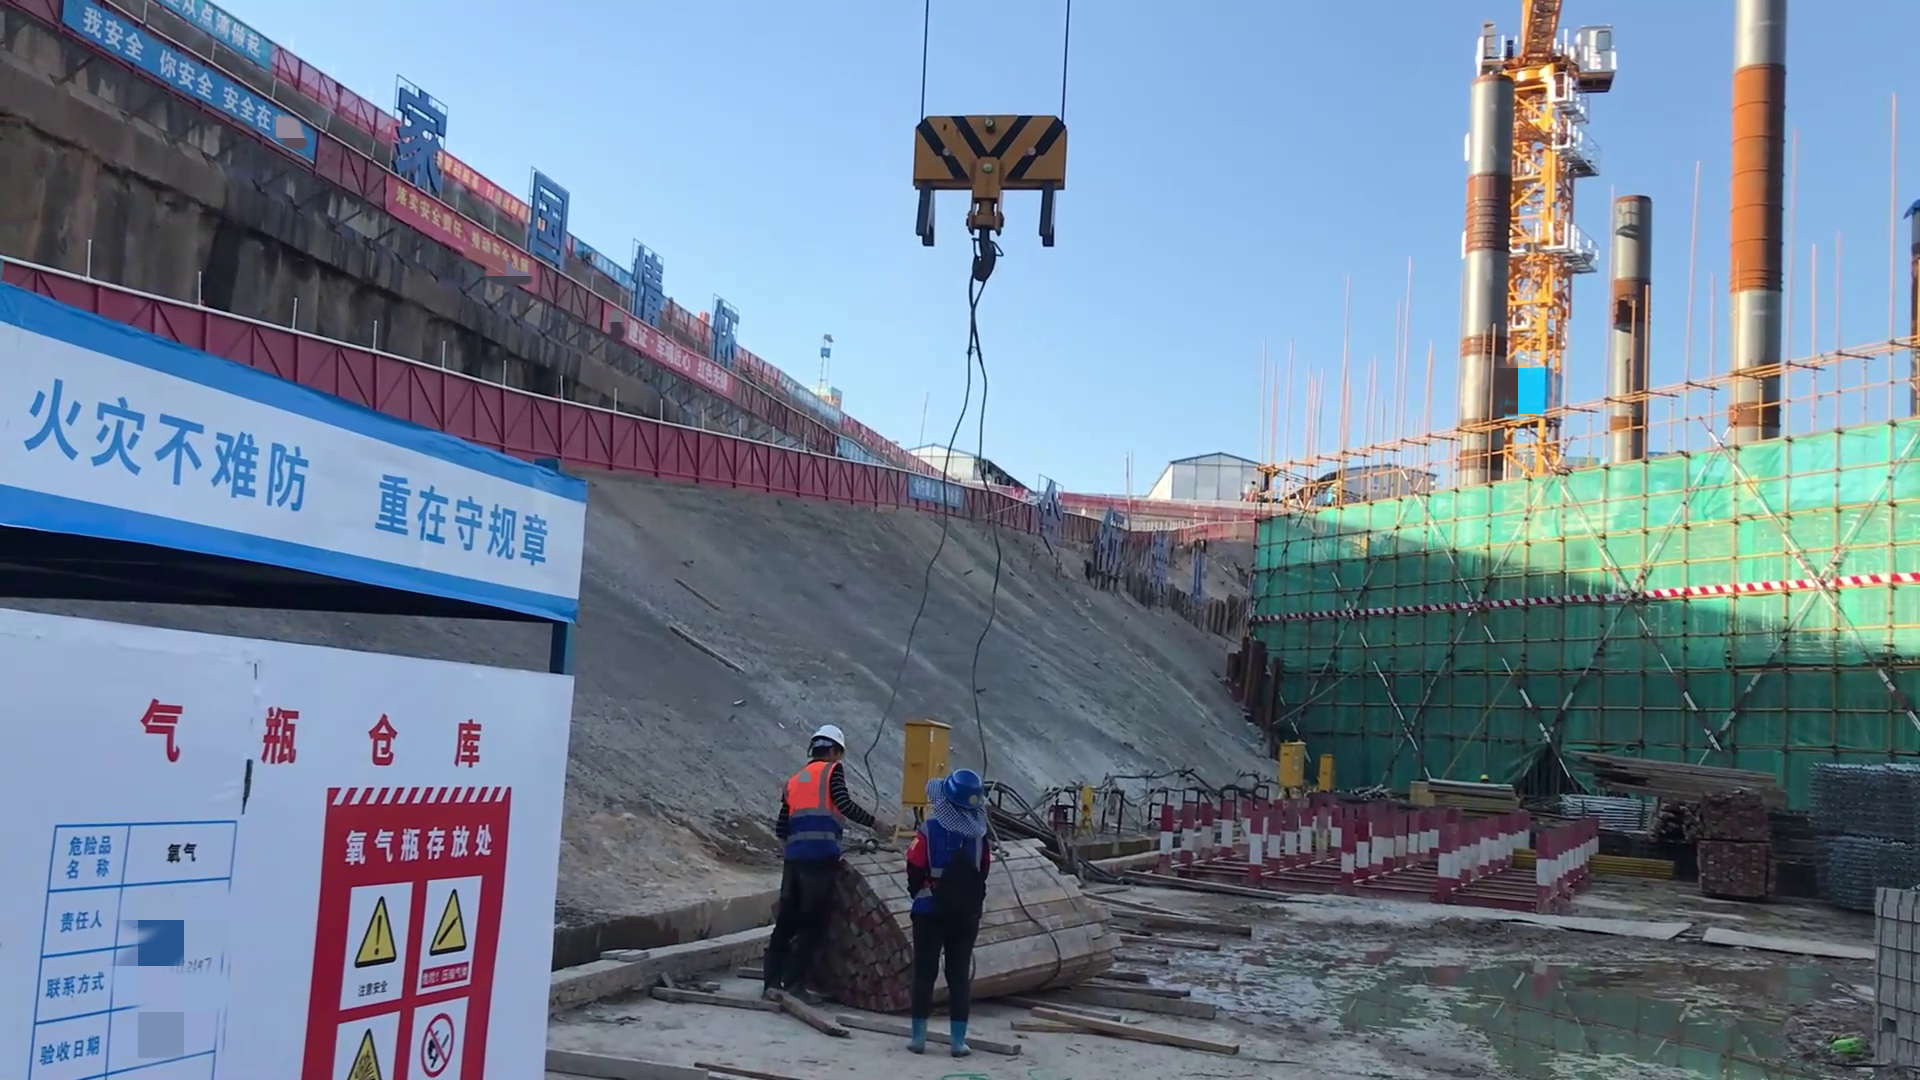brick: (1854, 860, 1920, 1071)
ebox: (891, 702, 958, 815), (1283, 738, 1308, 792), (1313, 748, 1334, 790)
fence: (574, 403, 749, 484), (754, 445, 899, 501)
helmet: (919, 758, 990, 811), (802, 720, 856, 766)
hook: (909, 95, 1077, 244)
person: (765, 720, 859, 994), (900, 771, 983, 1061)
scaffold: (1797, 739, 1914, 838)
slogan: (33, 371, 555, 583), (24, 1, 323, 186), (308, 870, 505, 1080)
vest: (779, 761, 837, 817)
wood: (1106, 853, 1255, 1067), (970, 844, 1118, 1007), (1582, 748, 1769, 830)
